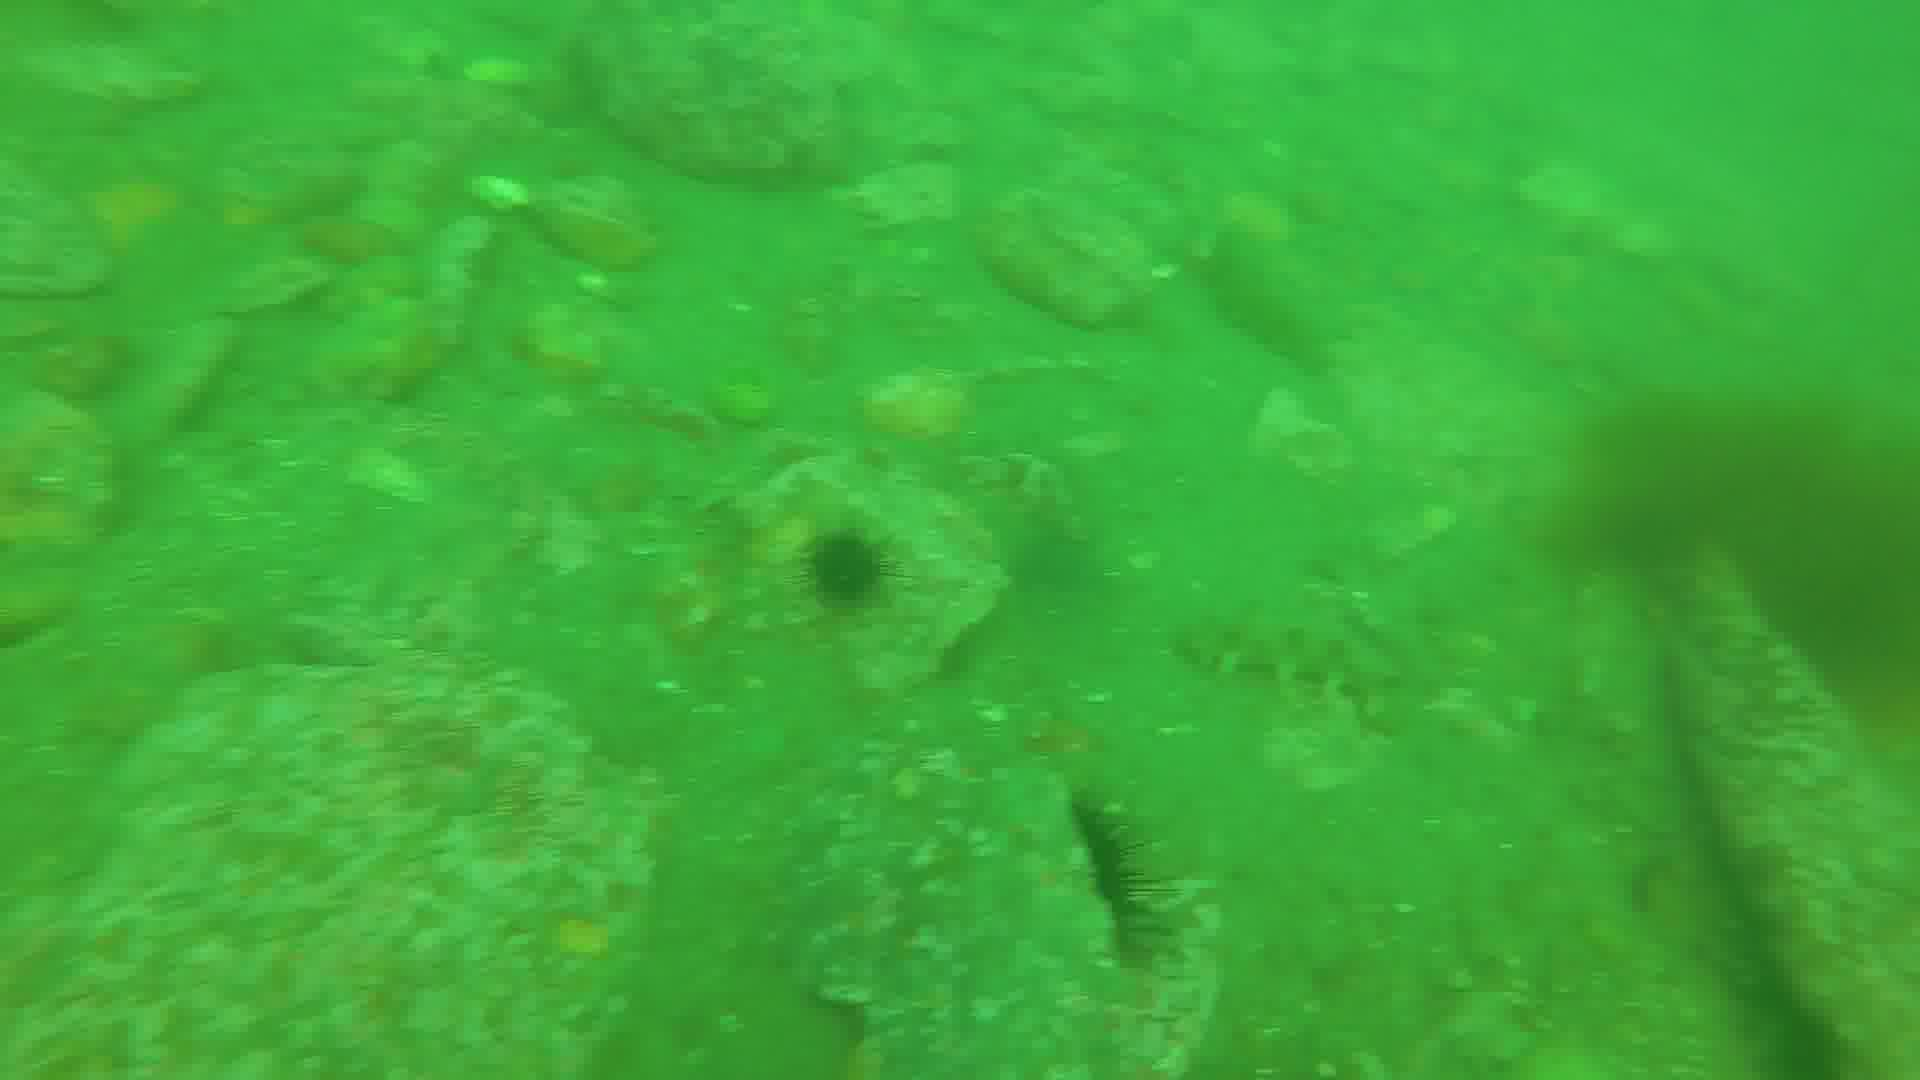echinus: (1030, 794, 1154, 952), (803, 531, 891, 604)
holothurian: (1180, 597, 1400, 709), (1207, 196, 1341, 371)
